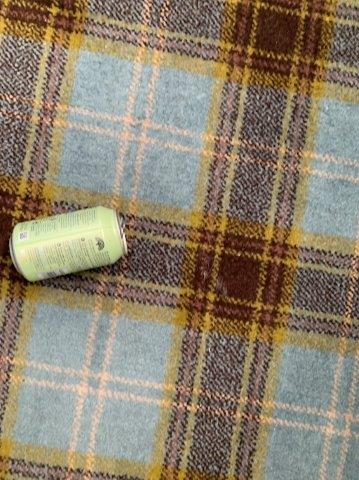kaleng: (11, 206, 126, 280)
